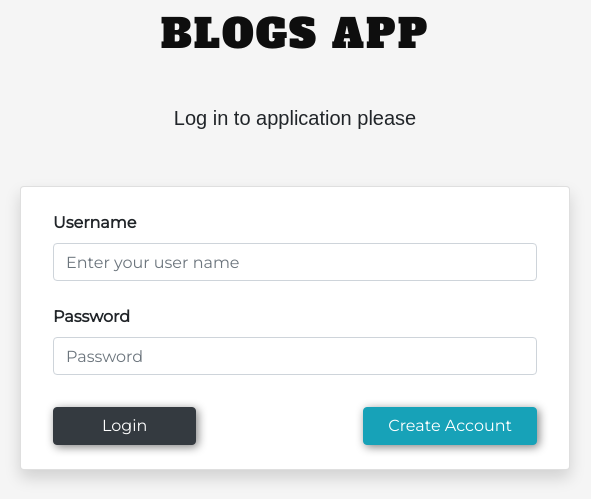
Blog app › Login › fails with wrong credentials - Can NOT be logged in with BAD credentials
Type "Pauli4" into the field with id "username" at (295, 262), box [53,243,537,281]
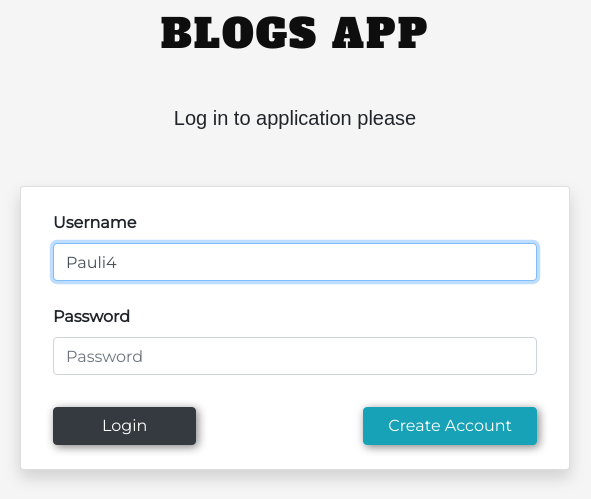
Type "wrongPassword" into the password field with placeholder "Password" at (295, 356), box [53,337,537,375]
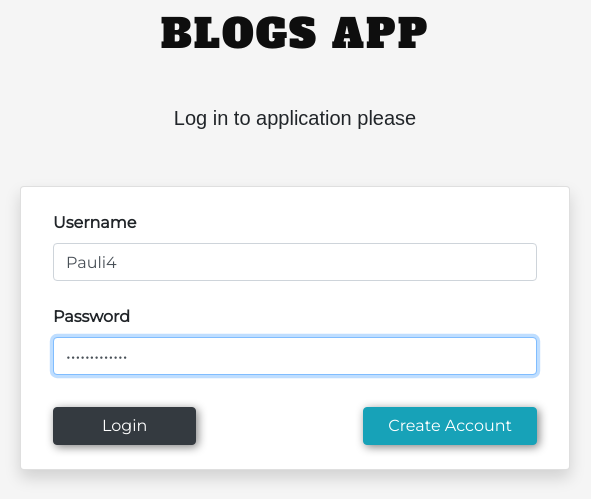
Click the button "Login" at (125, 426), box [53,407,196,445]
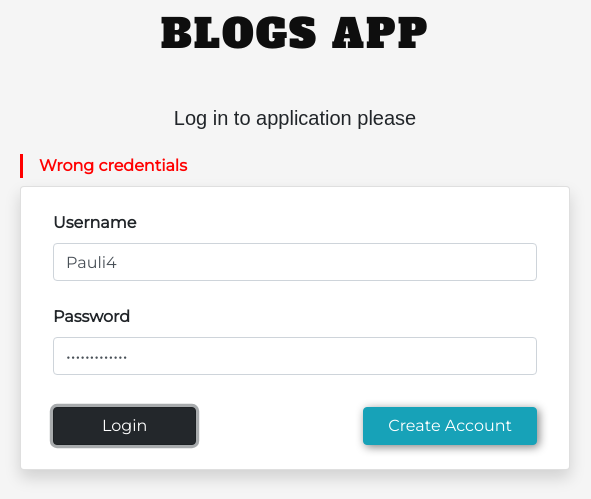
Now the text with id "messageComp" reads "Wrong credentials", box [39,156,187,175]
